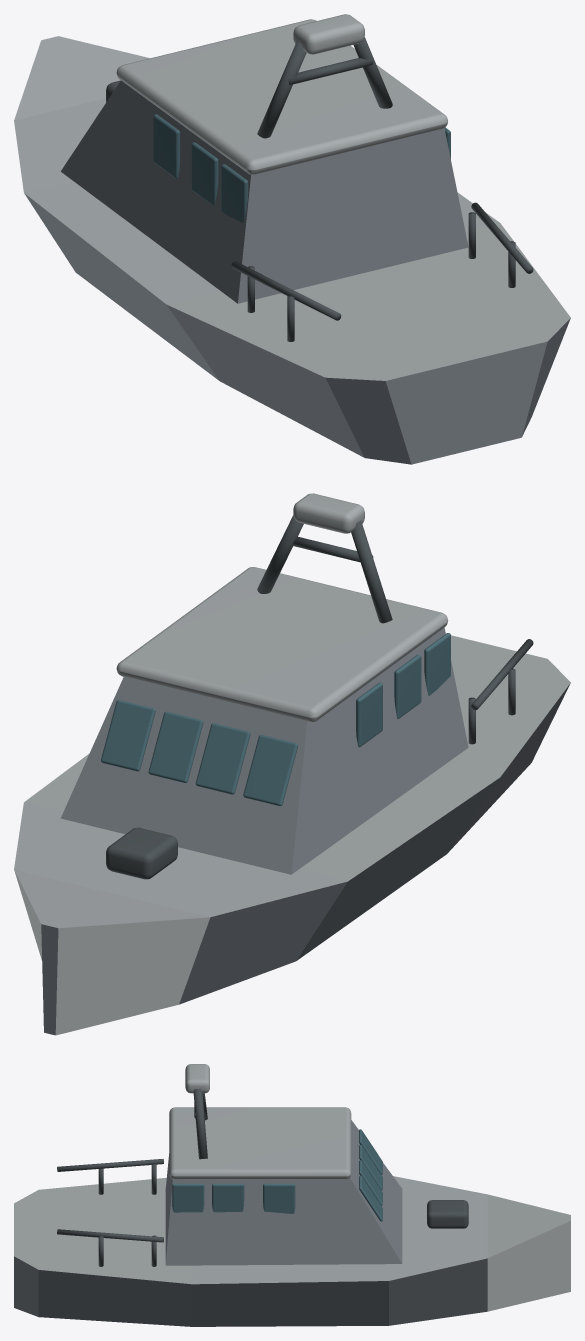
File: narrows-patrol-boat.glb
The picture shows the model from 3 angles, top to bottom: view 1: azimuth 30°, elevation 25°; view 2: azimuth 150°, elevation 25°; view 3: azimuth 270°, elevation 25°; orthographic projection. The views are drawn at different scales.
Parts seen in each view (by area): view 1: Angular patrol hull, Sloped bridge cabin, Bridge roof rim, Radar dome, Side bridge window, Raked radar mast, Side bridge window.001, Side bridge window.002, Aft safety rail, Raked radar mast.001, Radar crossbar, Aft safety rail.001; view 2: Angular patrol hull, Sloped bridge cabin, Bridge roof rim, Bow deck fitting, Bridge windscreen 2, Bridge windscreen 1, Bridge windscreen 4, Bridge windscreen 3, Radar dome, Raked radar mast, Side bridge window.001, Side bridge window (+4 smaller); view 3: Angular patrol hull, Sloped bridge cabin, Bridge roof rim, Bow deck fitting, Side bridge window.003, Side bridge window.005, Side bridge window.004, Radar dome, Raked radar mast.001, Aft safety rail.001, Aft safety rail, Bridge windscreen 4 (+3 smaller).
Boxes of the visible parts, x1=… form: Angular patrol hull: x1=14, y1=36, x2=570, y2=464; Sloped bridge cabin: x1=61, y1=80, x2=468, y2=303; Bridge roof rim: x1=116, y1=19, x2=447, y2=174; Radar dome: x1=293, y1=14, x2=364, y2=54; Side bridge window: x1=153, y1=114, x2=180, y2=178; Raked radar mast: x1=257, y1=40, x2=306, y2=138; Side bridge window.001: x1=191, y1=142, x2=218, y2=205; Side bridge window.002: x1=221, y1=164, x2=248, y2=222; Aft safety rail: x1=231, y1=261, x2=341, y2=320; Raked radar mast.001: x1=353, y1=37, x2=392, y2=108; Radar crossbar: x1=288, y1=57, x2=373, y2=84; Aft safety rail.001: x1=471, y1=202, x2=533, y2=273; Angular patrol hull: x1=14, y1=635, x2=570, y2=1035; Sloped bridge cabin: x1=60, y1=627, x2=468, y2=874; Bridge roof rim: x1=116, y1=567, x2=448, y2=722; Bow deck fitting: x1=106, y1=827, x2=177, y2=879; Bridge windscreen 2: x1=195, y1=723, x2=250, y2=794; Bridge windscreen 1: x1=243, y1=735, x2=297, y2=805; Bridge windscreen 4: x1=101, y1=700, x2=155, y2=771; Bridge windscreen 3: x1=148, y1=711, x2=203, y2=782; Radar dome: x1=293, y1=493, x2=364, y2=533; Raked radar mast: x1=351, y1=520, x2=392, y2=623; Side bridge window.001: x1=394, y1=654, x2=421, y2=718; Side bridge window: x1=356, y1=682, x2=382, y2=747; Angular patrol hull: x1=14, y1=1176, x2=570, y2=1326; Sloped bridge cabin: x1=165, y1=1120, x2=402, y2=1265; Bridge roof rim: x1=169, y1=1107, x2=351, y2=1179; Bow deck fitting: x1=427, y1=1200, x2=468, y2=1228; Side bridge window.003: x1=263, y1=1183, x2=295, y2=1213; Side bridge window.005: x1=172, y1=1183, x2=204, y2=1212; Side bridge window.004: x1=212, y1=1183, x2=244, y2=1212; Radar dome: x1=185, y1=1064, x2=209, y2=1093; Raked radar mast.001: x1=193, y1=1088, x2=207, y2=1159; Aft safety rail.001: x1=57, y1=1229, x2=163, y2=1242; Aft safety rail: x1=57, y1=1159, x2=163, y2=1171; Bridge windscreen 4: x1=359, y1=1175, x2=382, y2=1221.
Size of the model in its own units: 1.36 by 1.27 by 2.94.
